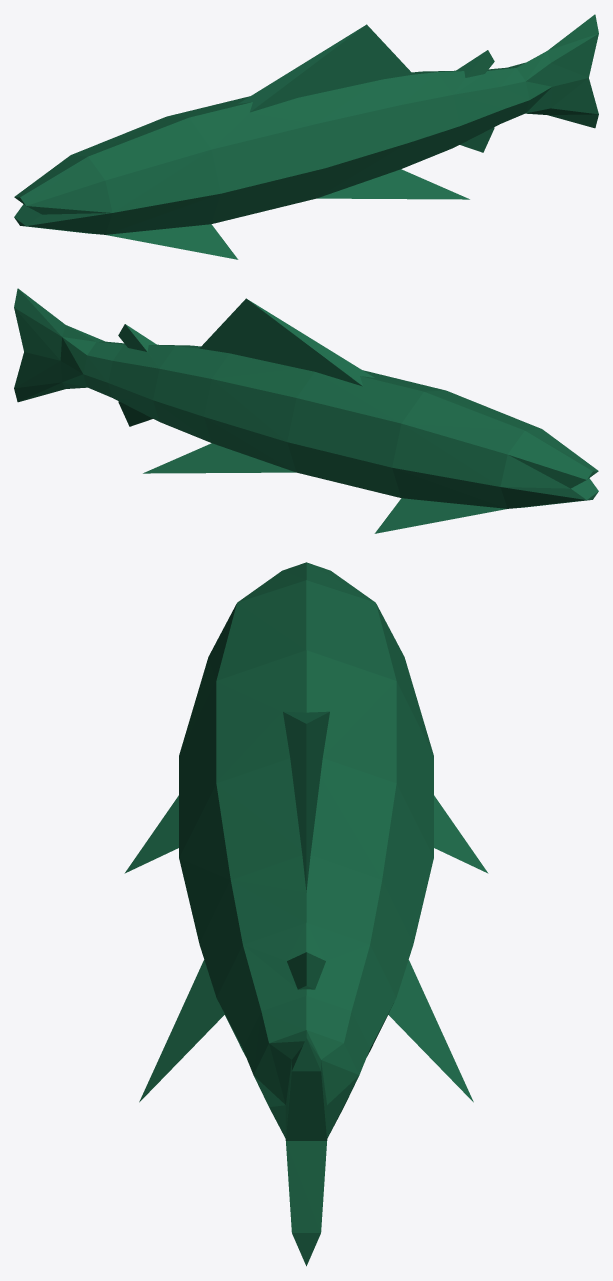
Rendered from fish-large-mint.glb.
3 renders of one model, top to bottom at view 1: azimuth 30°, elevation 25°; view 2: azimuth 150°, elevation 25°; view 3: azimuth 270°, elevation 25°, orthographic. The views are drawn at different scales.
Visible parts, largest first — view 1: fish-large-mint; view 2: fish-large-mint; view 3: fish-large-mint.
Boxes of the visible parts, left/top/right/bottom form: fish-large-mint: left=14, top=14, right=598, bottom=259; fish-large-mint: left=14, top=288, right=598, bottom=533; fish-large-mint: left=124, top=562, right=488, bottom=1266.
Size of the model in its own units: 1.13 by 0.3 by 0.31.
